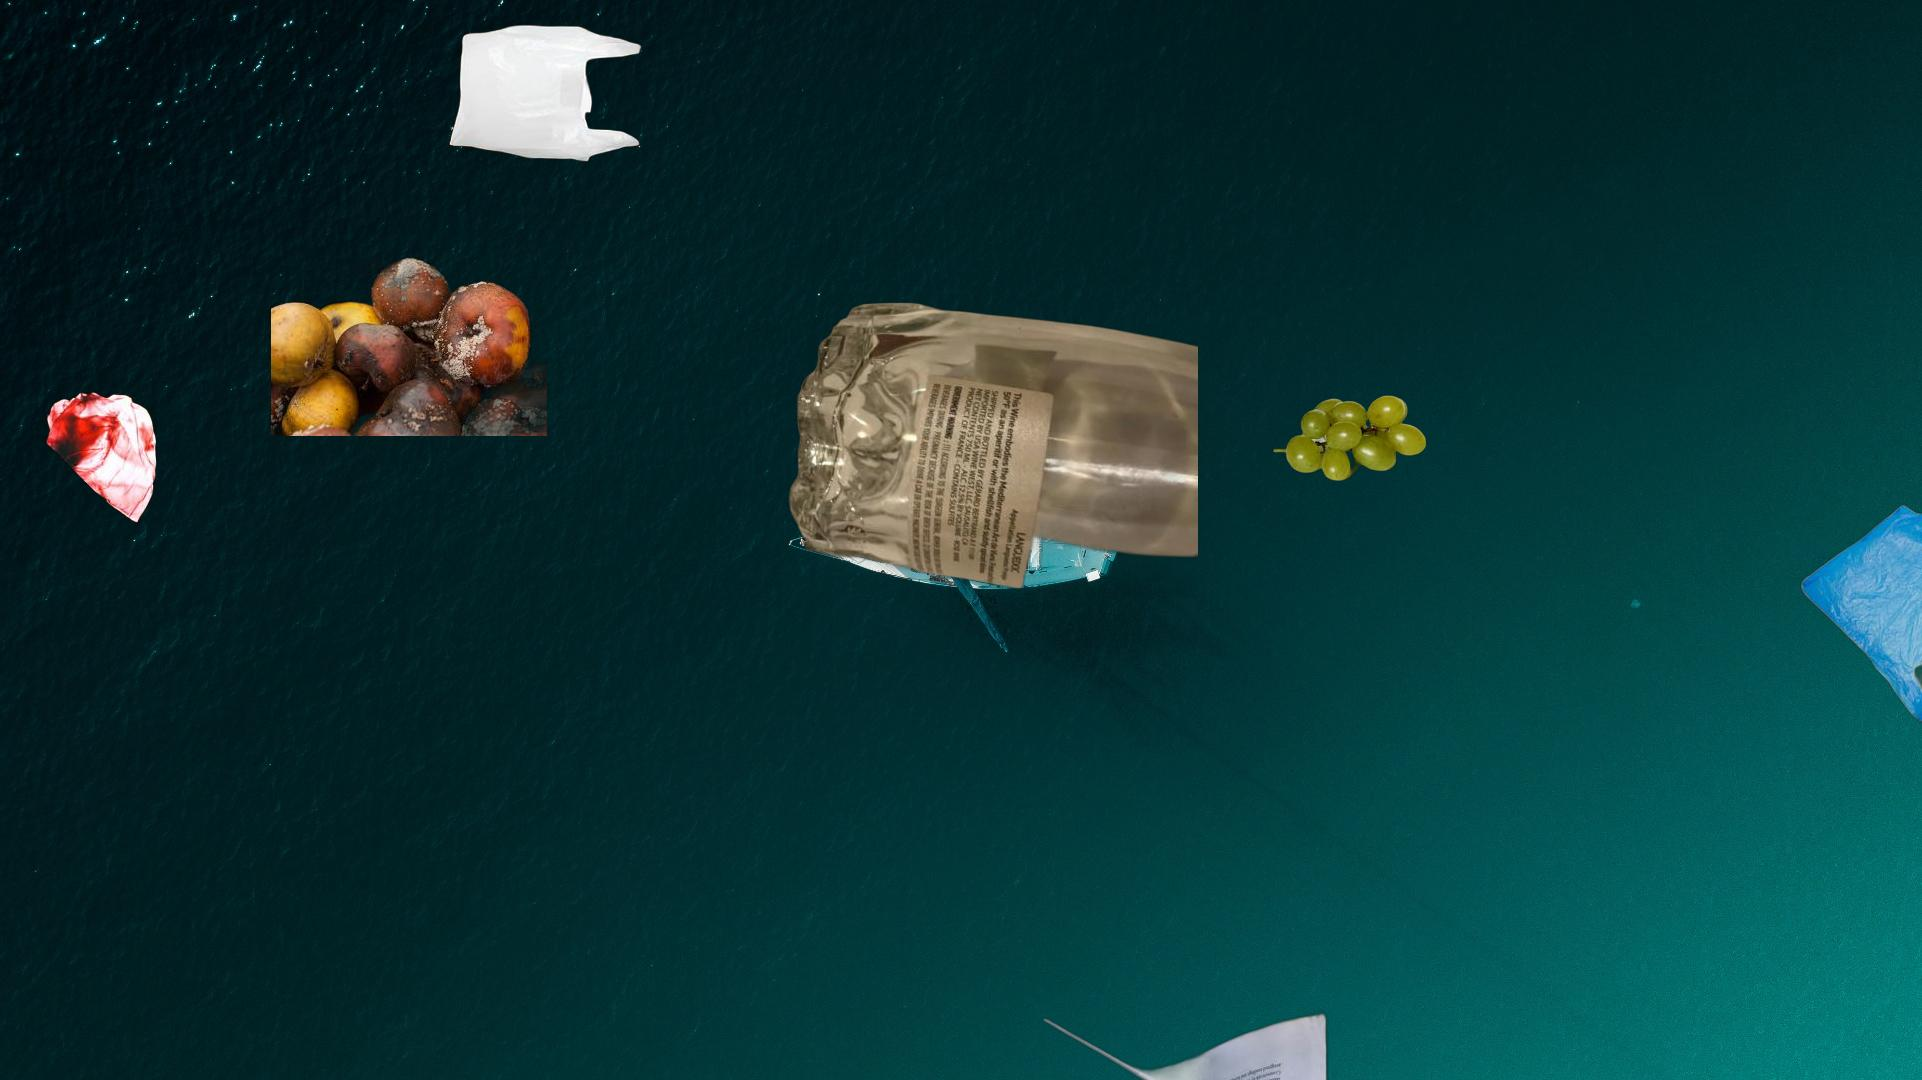biological: (271, 253, 547, 436), (1273, 392, 1430, 485)
glass: (785, 298, 1199, 598)
paper: (1010, 1007, 1391, 1080)
plastic-bag: (1798, 502, 1922, 753), (447, 22, 644, 162), (44, 389, 160, 525)
